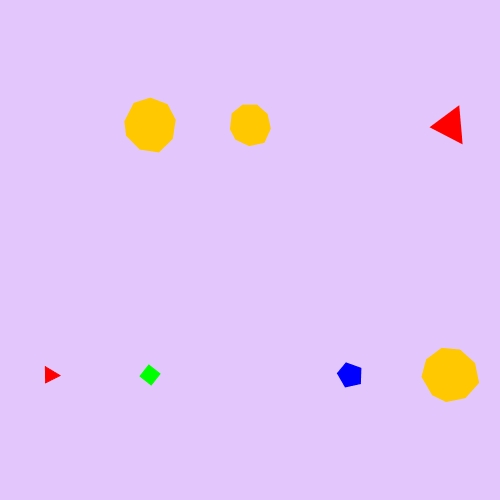nonagon: (418, 345, 482, 406), (120, 96, 181, 155), (225, 101, 276, 149)
pentagon: (334, 359, 367, 392)
quadrilateral: (135, 360, 165, 390)
triangle: (430, 104, 471, 147), (38, 362, 63, 388)
